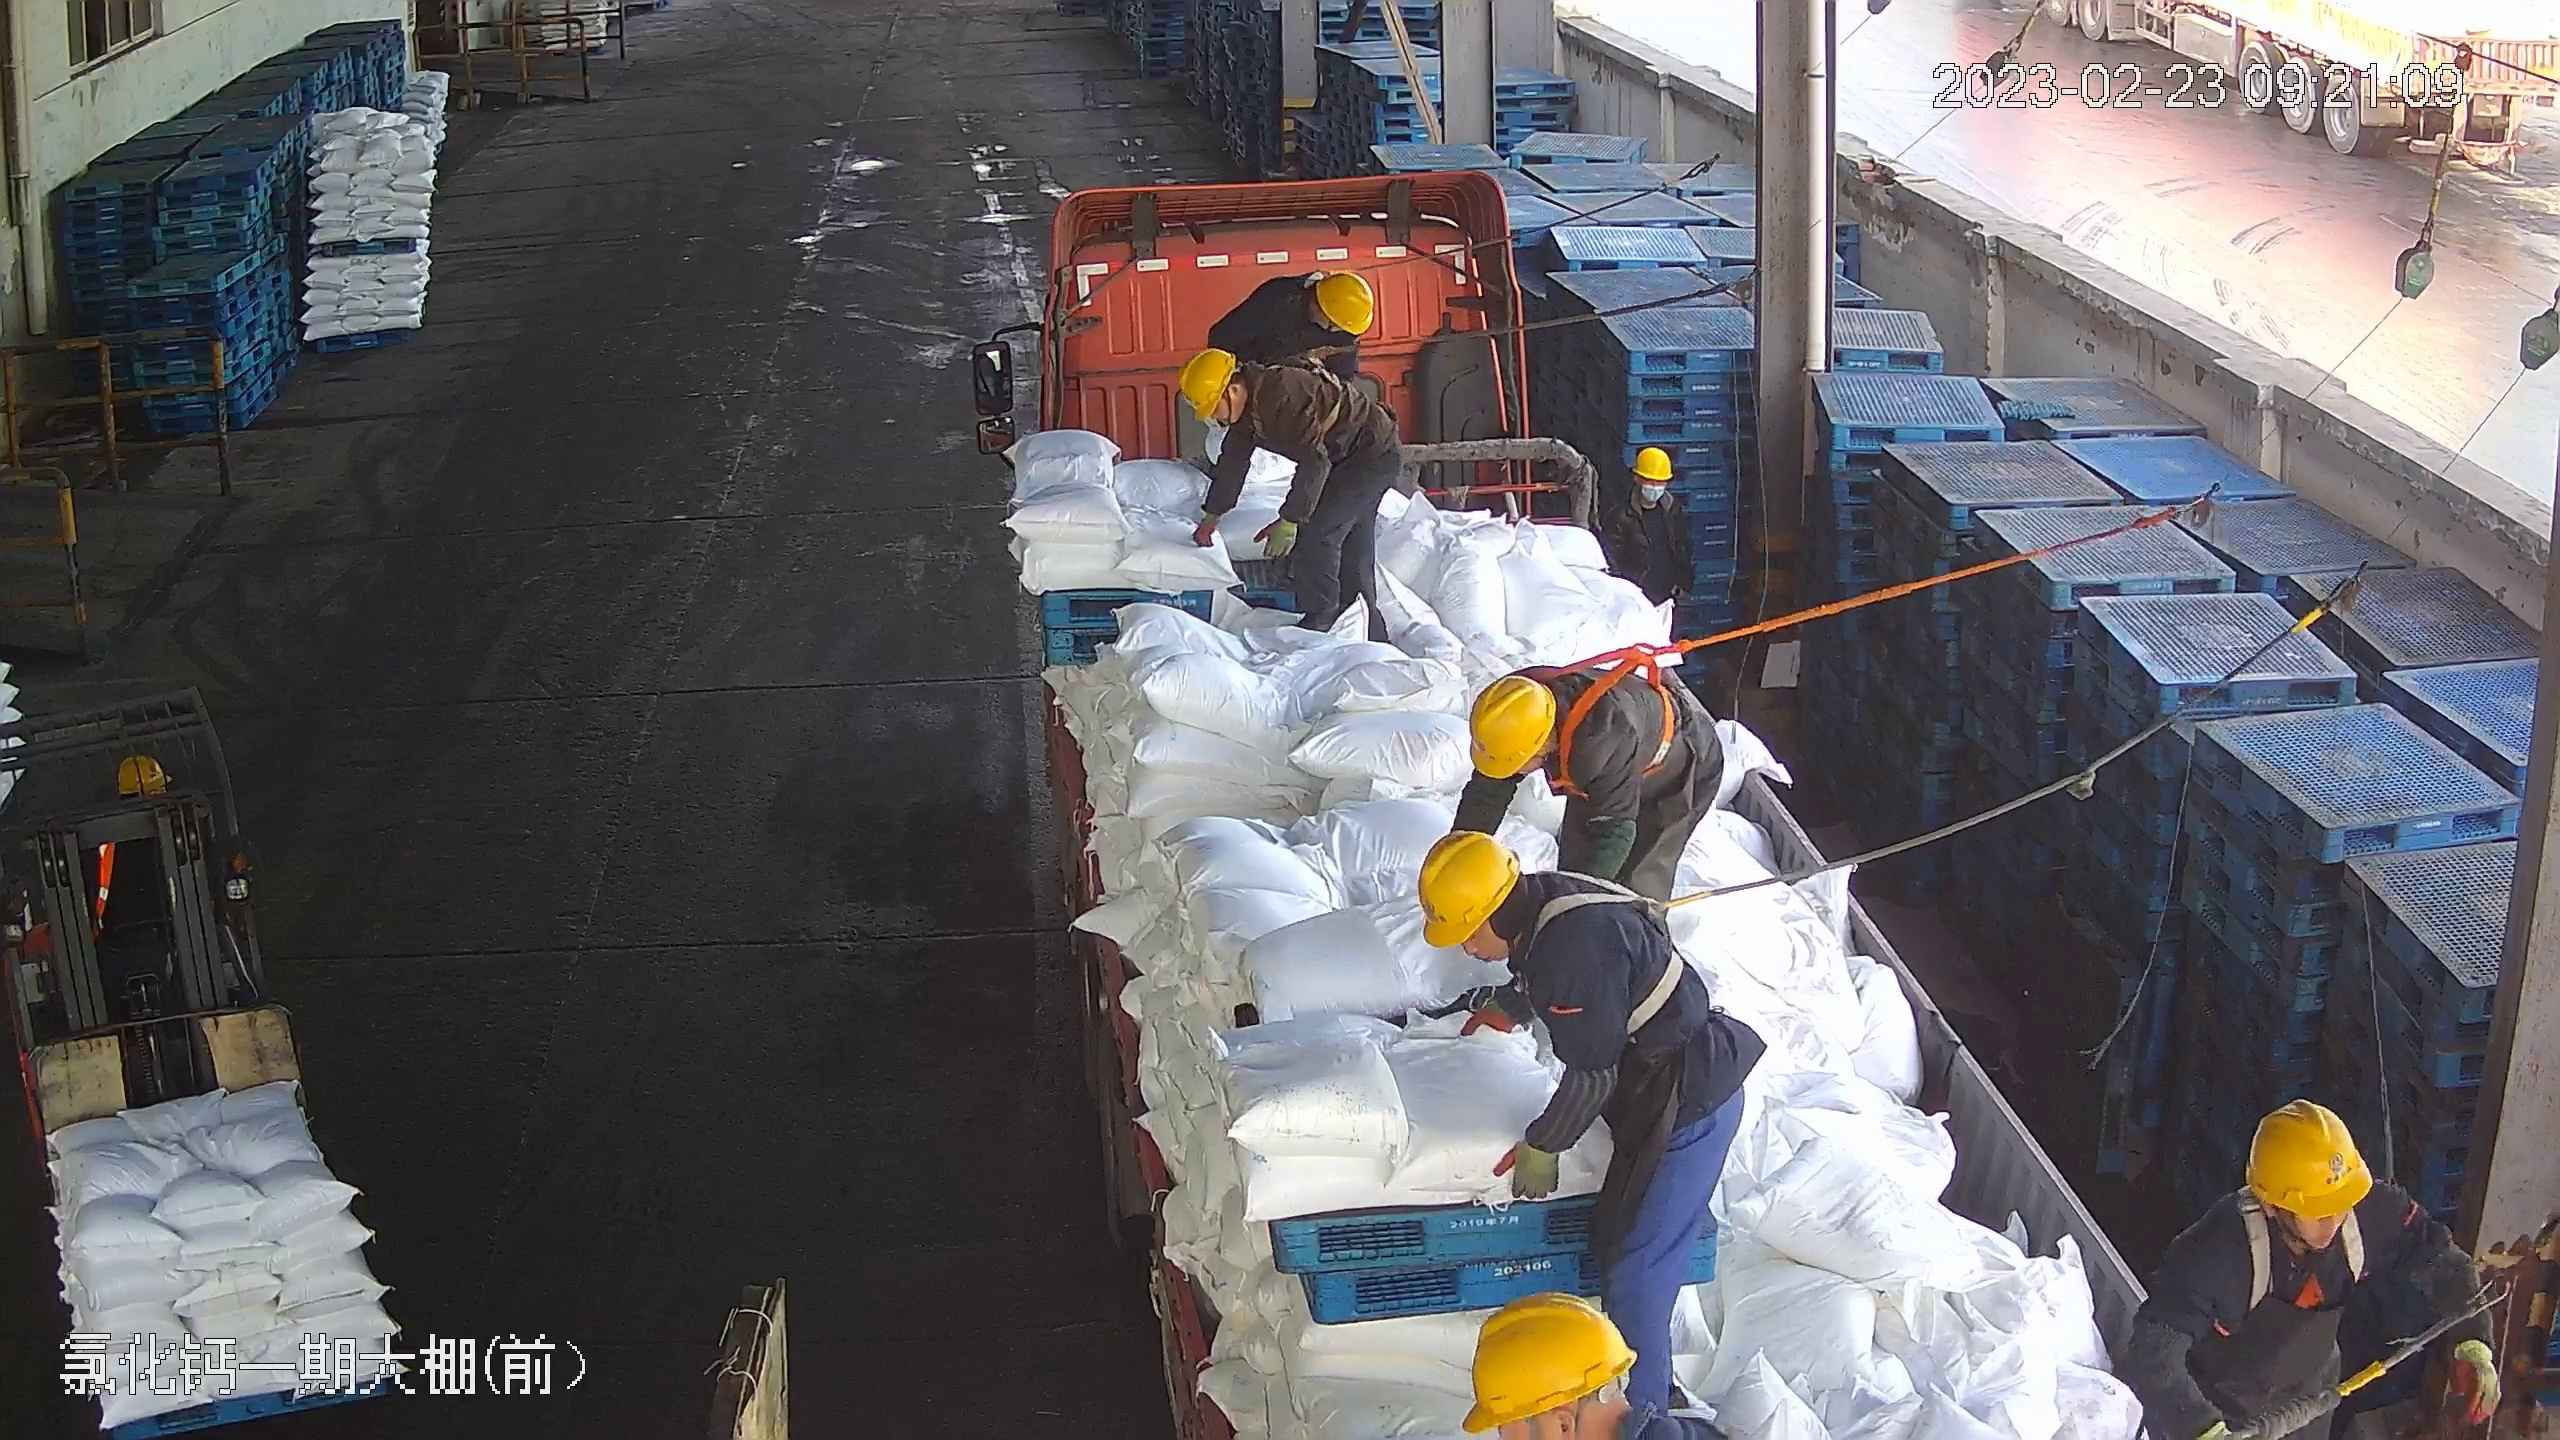belt: (1540, 867, 1710, 1041), (1543, 640, 1678, 790), (2244, 1182, 2371, 1316), (1232, 342, 1344, 437), (1301, 259, 1357, 288)
head: (2156, 1094, 2452, 1315), (1413, 827, 1631, 991), (1460, 671, 1639, 797), (1190, 312, 1356, 412), (1210, 257, 1370, 343), (1180, 344, 1322, 435), (1609, 445, 1698, 543)
helmet: (1459, 1286, 1634, 1419), (2246, 1093, 2372, 1218), (1409, 826, 1524, 941), (1461, 674, 1556, 776), (1174, 340, 1242, 419), (1313, 262, 1379, 334), (1629, 442, 1677, 482)
people: (1419, 823, 1746, 1407), (1179, 336, 1398, 639)
truck: (976, 161, 2232, 1440)
